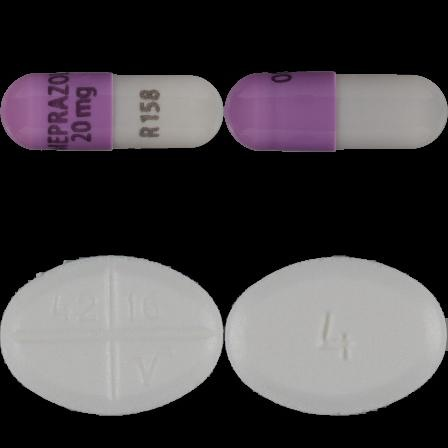68084-128: (0, 0, 224, 224)
